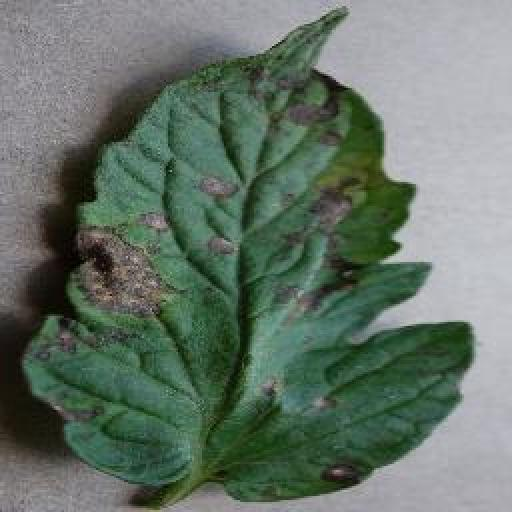Early Blight: (27, 0, 479, 512)
